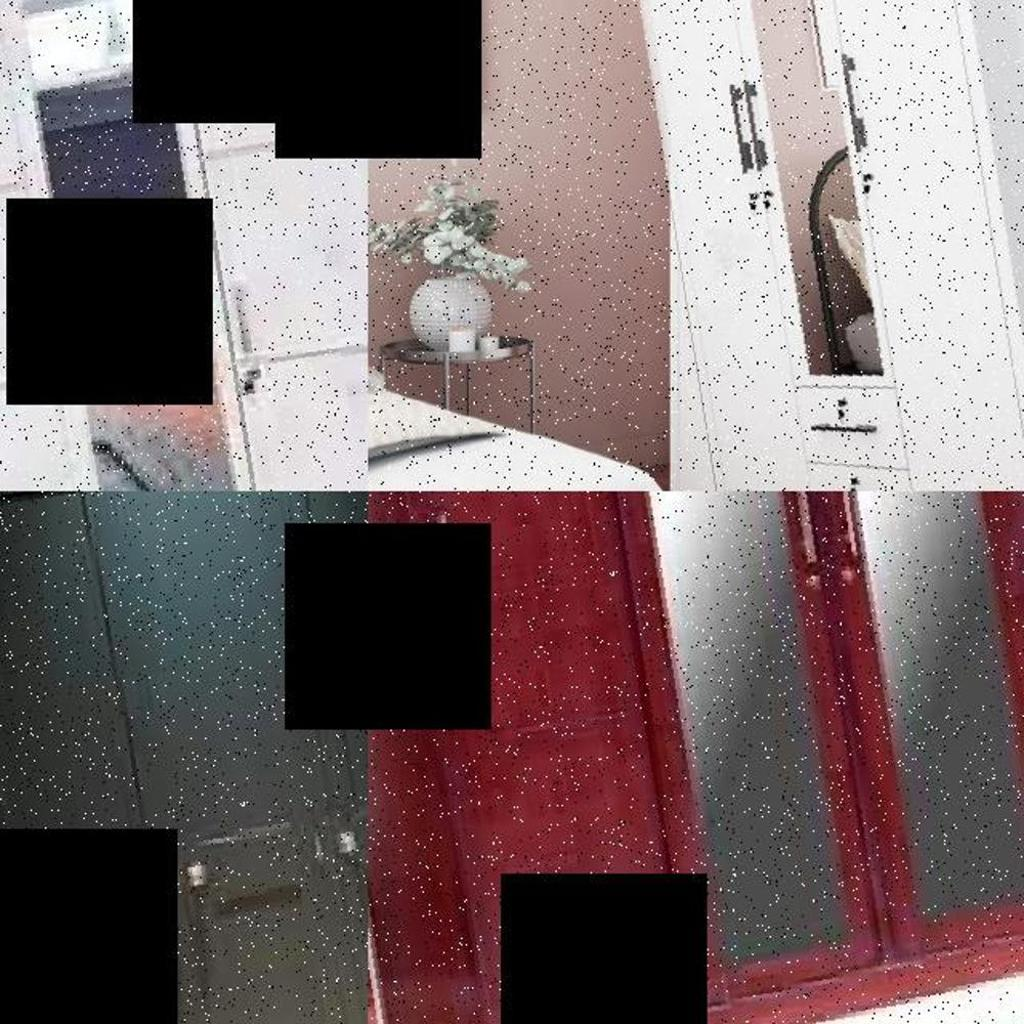cabinet: (368, 491, 1024, 1024), (0, 491, 368, 1024), (634, 0, 1024, 491), (0, 0, 368, 491)
